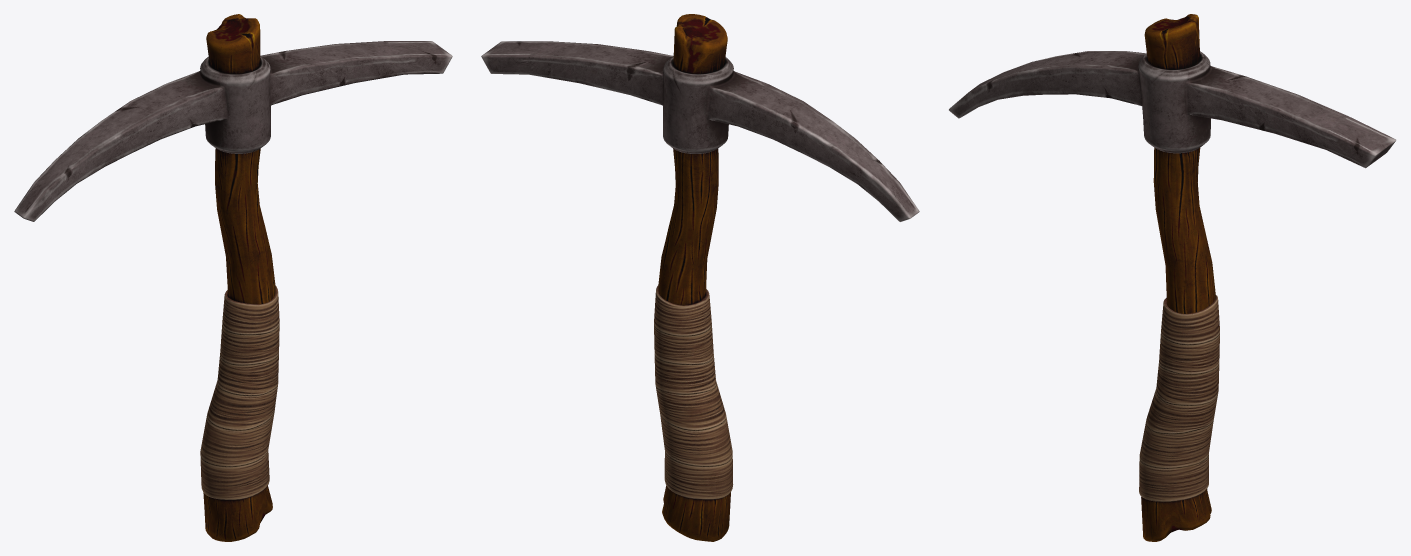
The model's file is Pickaxe.glb.
The picture shows the model from 3 angles, left to right: view 1: azimuth 30°, elevation 25°; view 2: azimuth 150°, elevation 25°; view 3: azimuth 330°, elevation 25°; orthographic projection. The views are drawn at different scales.
Visible parts, largest first — view 1: Object_2; view 2: Object_2; view 3: Object_2.
Part boxes in pixels (<box>): Object_2: <box>14,14,452,541</box>; Object_2: <box>481,14,919,541</box>; Object_2: <box>949,14,1396,541</box>.
Size of the model in its own units: 5.52 by 6.37 by 0.8139.
1 material, 1 textured.
